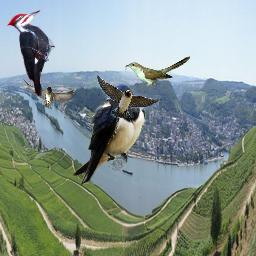Cuckoo: (125, 56, 190, 86)
Swallow: (72, 83, 146, 187), (96, 74, 161, 118), (22, 78, 75, 110)
Woodpecker: (7, 10, 55, 96)
